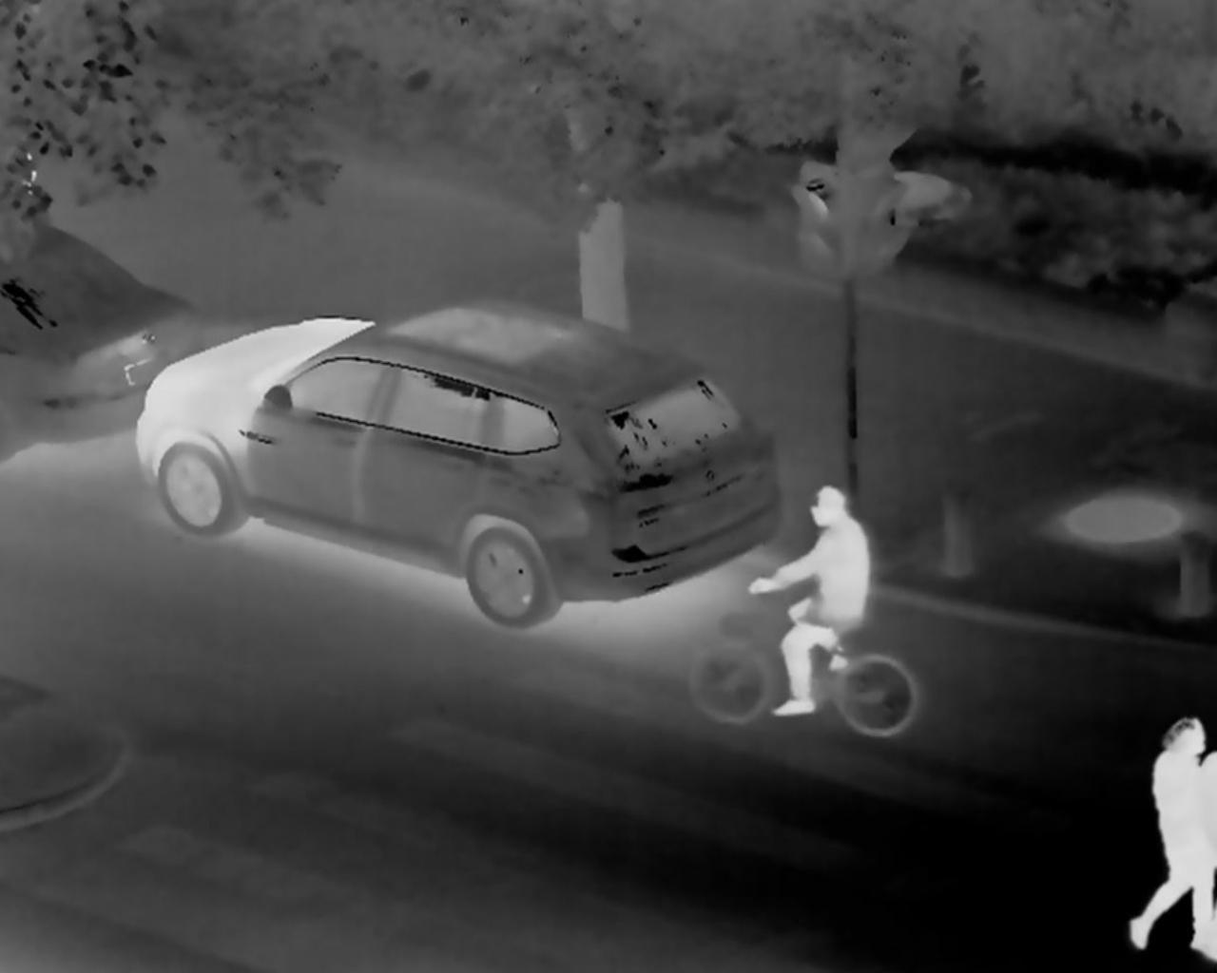person: (744, 478, 871, 721), (1132, 709, 1217, 957)
